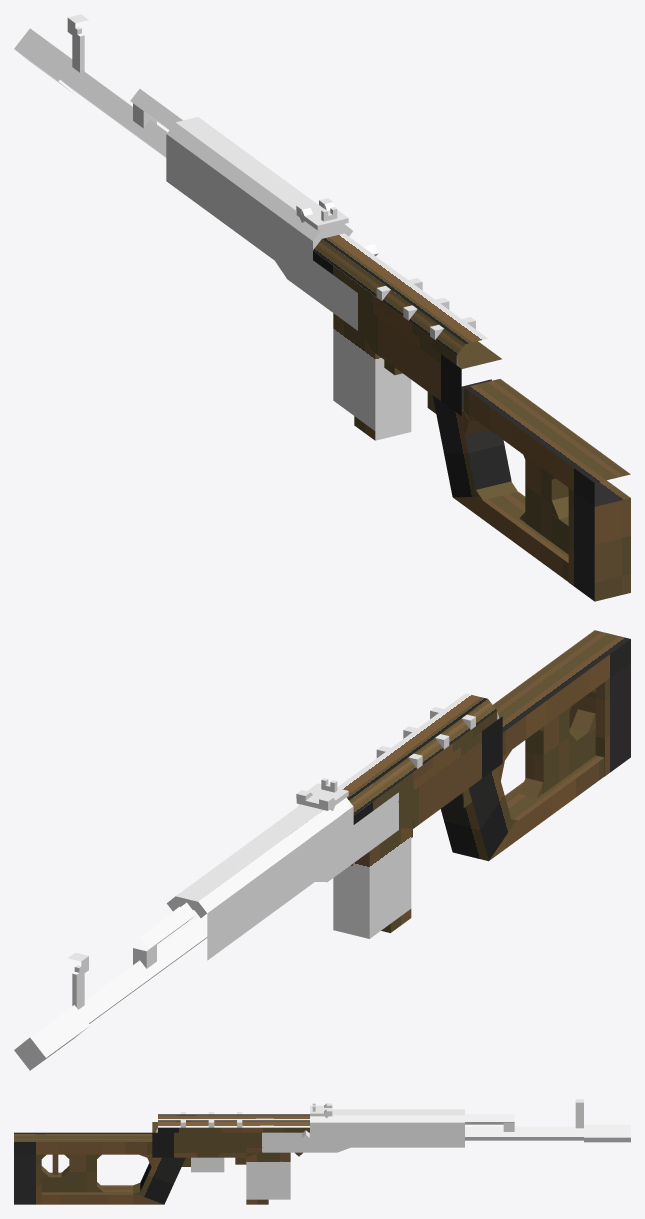
File: aurorasarsenal_svd.glb
The picture shows the model from 3 angles, top to bottom: view 1: azimuth 30°, elevation 25°; view 2: azimuth 150°, elevation 25°; view 3: azimuth 270°, elevation 25°; orthographic projection. The views are drawn at different scales.
Visible parts, largest first — view 1: Gun; view 2: Gun; view 3: Gun.
Boxes of the visible parts, x1,y1,x2,y2 form: Gun: (14, 14, 630, 601); Gun: (14, 630, 630, 1070); Gun: (14, 1099, 630, 1204).
Bounding box in the file's own units: 0.0803 × 0.2469 × 1.39.
Materials: 1 (1 with a texture image).
